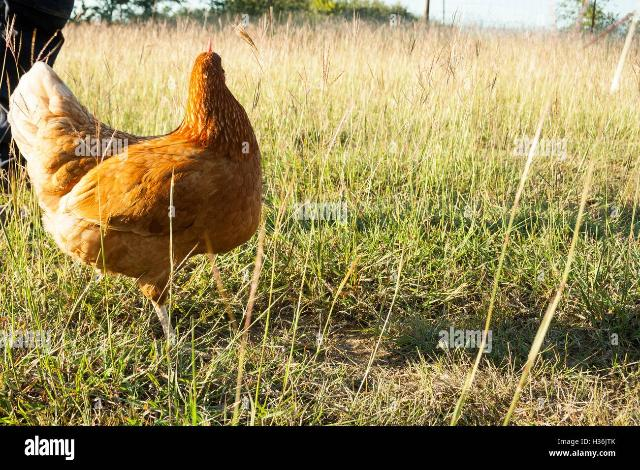Chicken: (8, 40, 262, 338)
